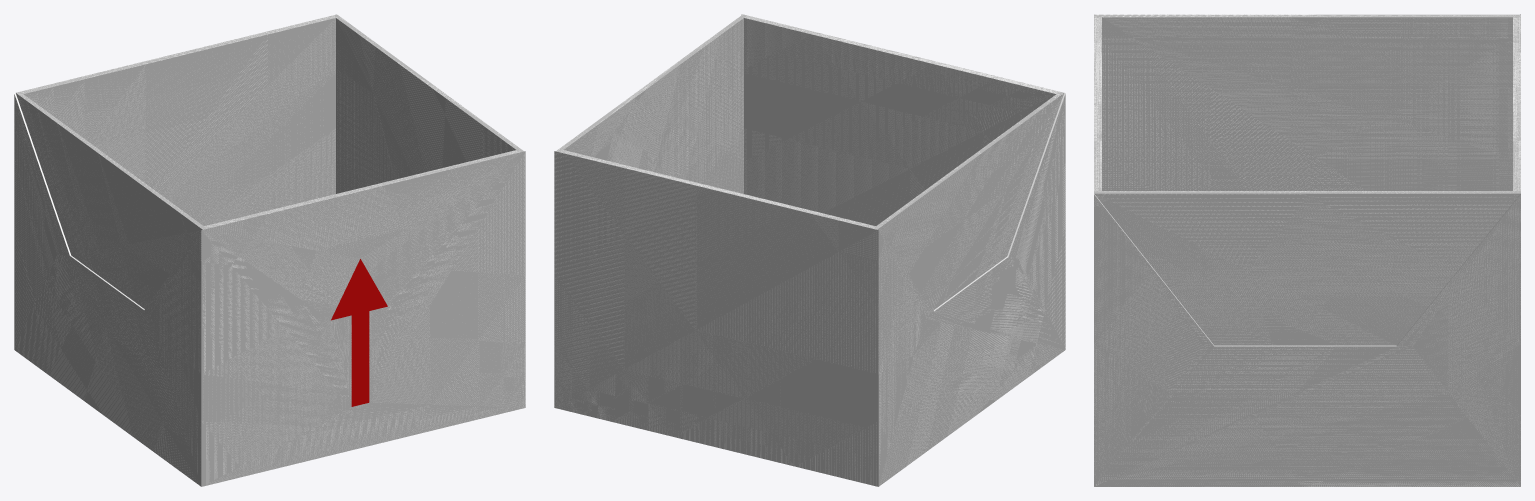
The picture shows the model from 3 angles, left to right: view 1: azimuth 30°, elevation 25°; view 2: azimuth 150°, elevation 25°; view 3: azimuth 270°, elevation 25°; orthographic projection. The views are drawn at different scales.
Visible parts, largest first — view 1: Group_3_1/Group_3/mesh5/mesh5-geometry#mesh5-geometry.001; view 2: Group_3_1/Group_3/mesh5/mesh5-geometry#mesh5-geometry.001; view 3: Group_3_1/Group_3/mesh5/mesh5-geometry#mesh5-geometry.001.
Boxes of the visible parts, left/top/right/bottom form: Group_3_1/Group_3/mesh5/mesh5-geometry#mesh5-geometry.001: left=14, top=14, right=525, bottom=486; Group_3_1/Group_3/mesh5/mesh5-geometry#mesh5-geometry.001: left=554, top=14, right=1065, bottom=486; Group_3_1/Group_3/mesh5/mesh5-geometry#mesh5-geometry.001: left=1094, top=14, right=1520, bottom=486.
Size of the model in its own units: 0.8742 by 0.6614 by 0.8742.
